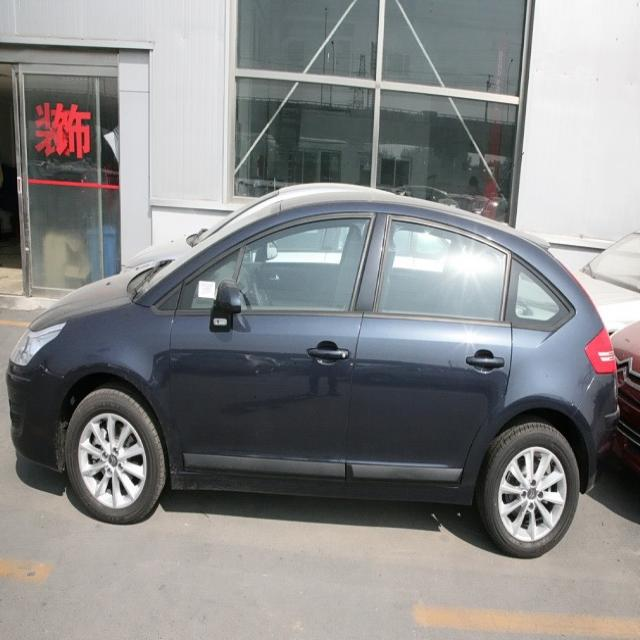back_left_side_light: (583, 322, 619, 376)
door: (353, 212, 518, 490)
front_bumper: (5, 366, 67, 476)
front_left_side_door: (165, 197, 381, 489)
front_left_side_light: (7, 320, 69, 368)
front_left_side_mirror: (211, 276, 242, 326)
rear_bumper: (568, 371, 623, 492)
wheel: (480, 422, 581, 560), (64, 388, 161, 524)
